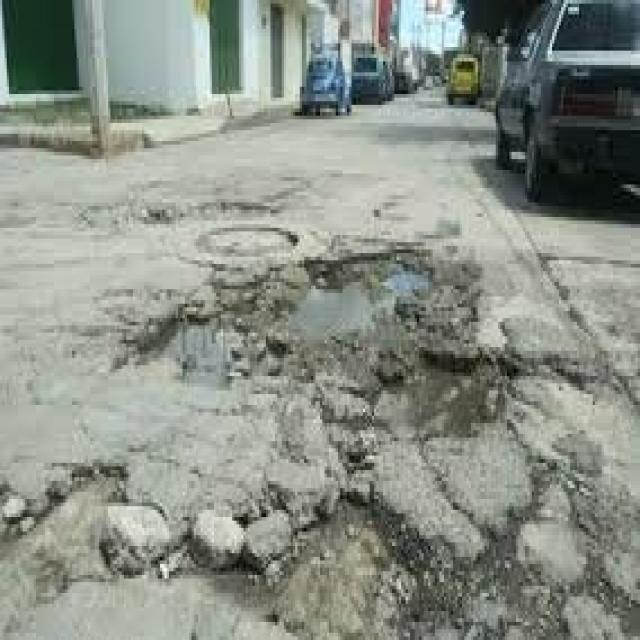pothole: (2, 159, 624, 640)
